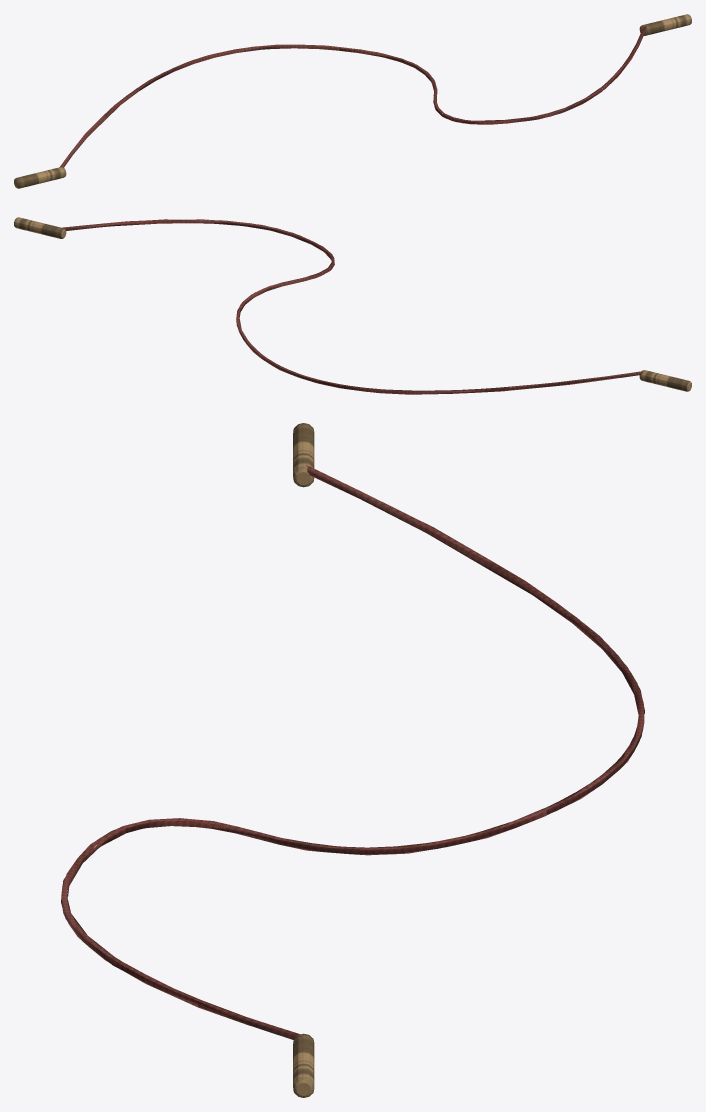
The model's file is SE05_SkippingRope.glb.
3 views of the same model, one above another, from view 1: azimuth 30°, elevation 25°; view 2: azimuth 150°, elevation 25°; view 3: azimuth 270°, elevation 25° (orthographic). The views are drawn at different scales.
Visible parts, largest first — view 1: SE05_SkippingRope; view 2: SE05_SkippingRope; view 3: SE05_SkippingRope.
Boxes of the visible parts, x1=… form: SE05_SkippingRope: x1=14, y1=14, x2=691, y2=188; SE05_SkippingRope: x1=14, y1=217, x2=691, y2=394; SE05_SkippingRope: x1=61, y1=423, x2=644, y2=1097.
Size of the model in its own units: 1.5 by 0.0205 by 0.5628.
2 materials, 2 textured.
